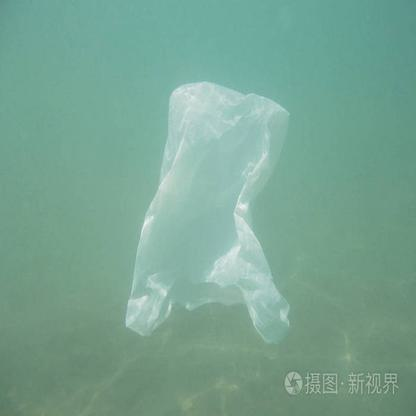plastic bag: (123, 78, 297, 339)
